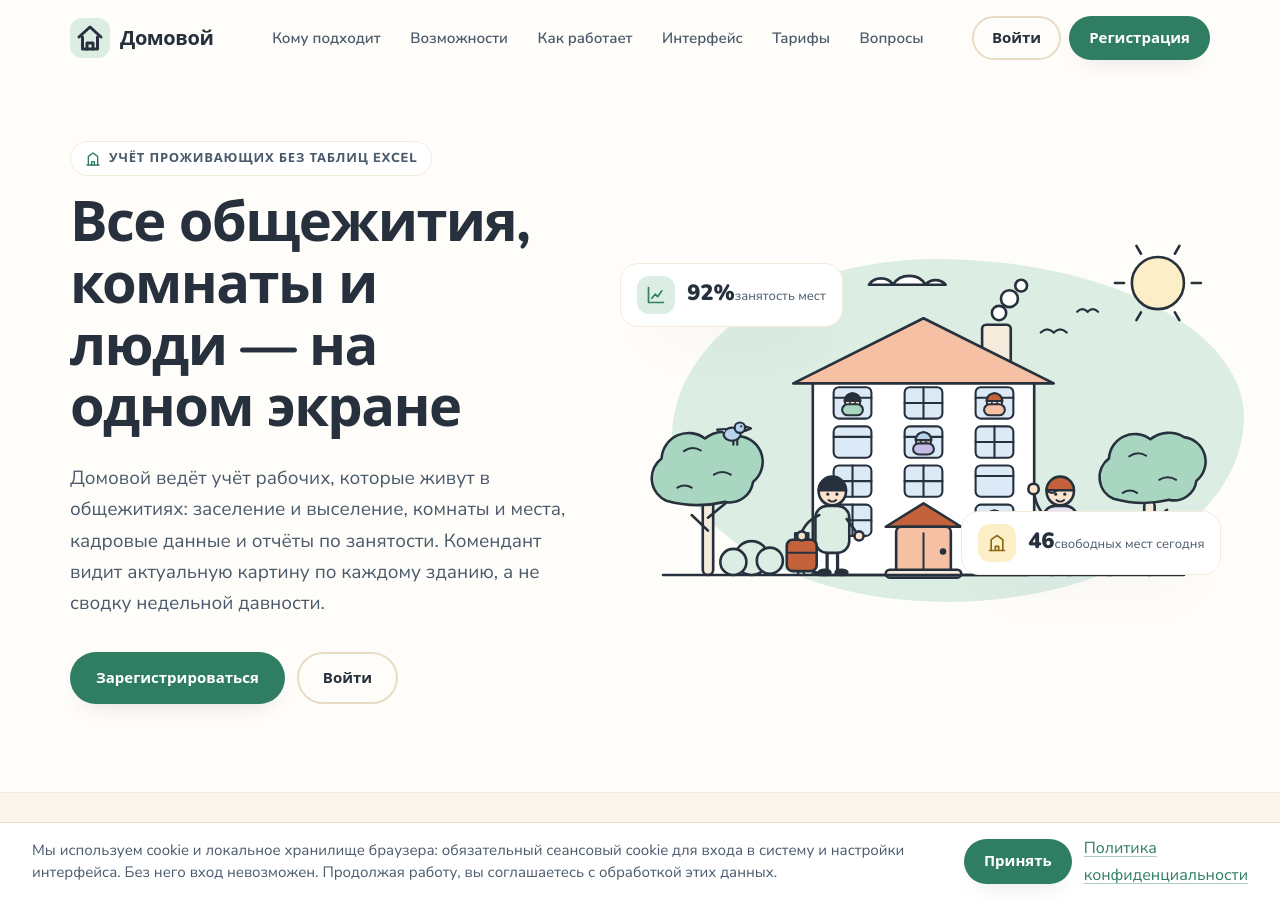
плашка согласия на cookie › принятие убирает плашку и запоминает выбор
Click the button with test id "cookie-consent-accept": (1018, 862) [964,839,1072,884]
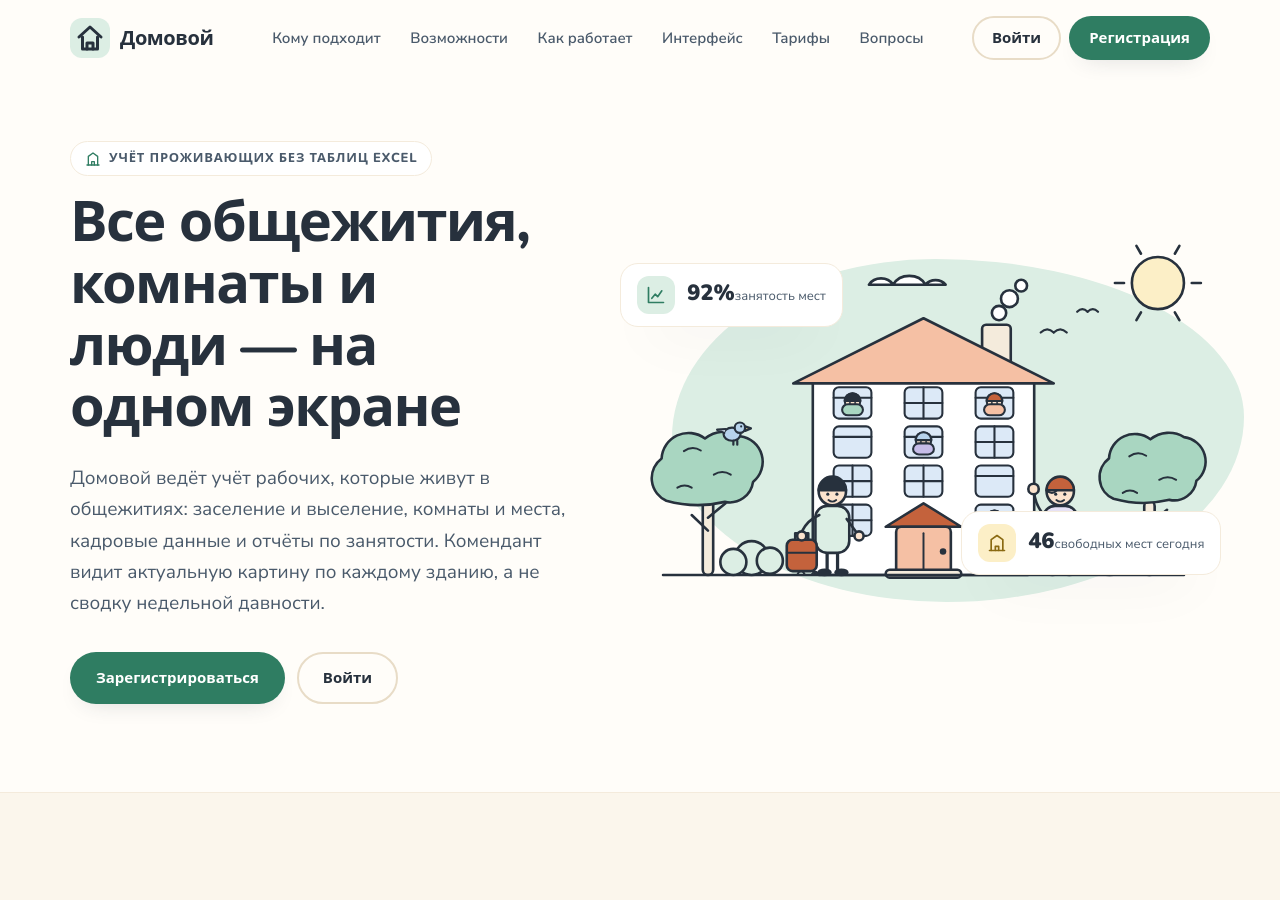
Result: the element with test id "cookie-consent" is gone
